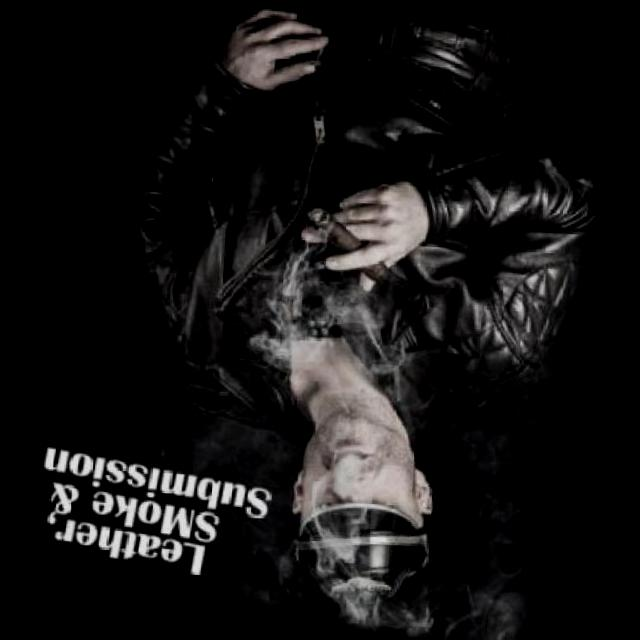cigarette: (290, 199, 407, 286)
